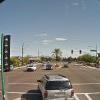Car: (30, 69, 79, 100)
